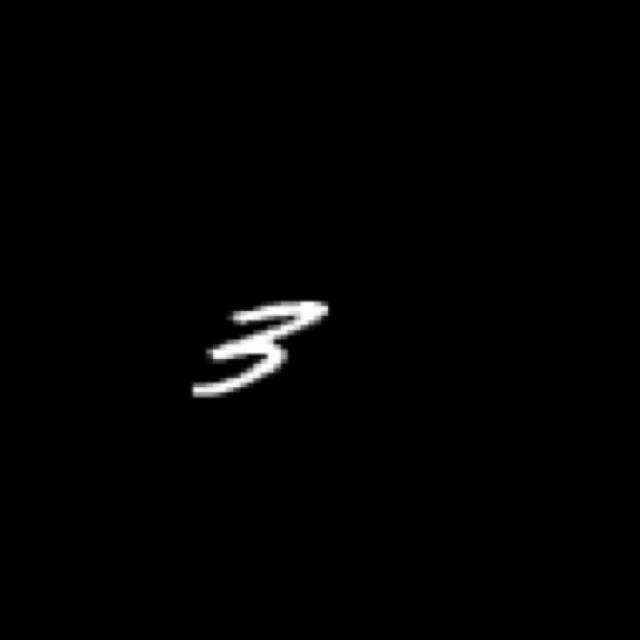three -3-: (178, 298, 346, 403)
